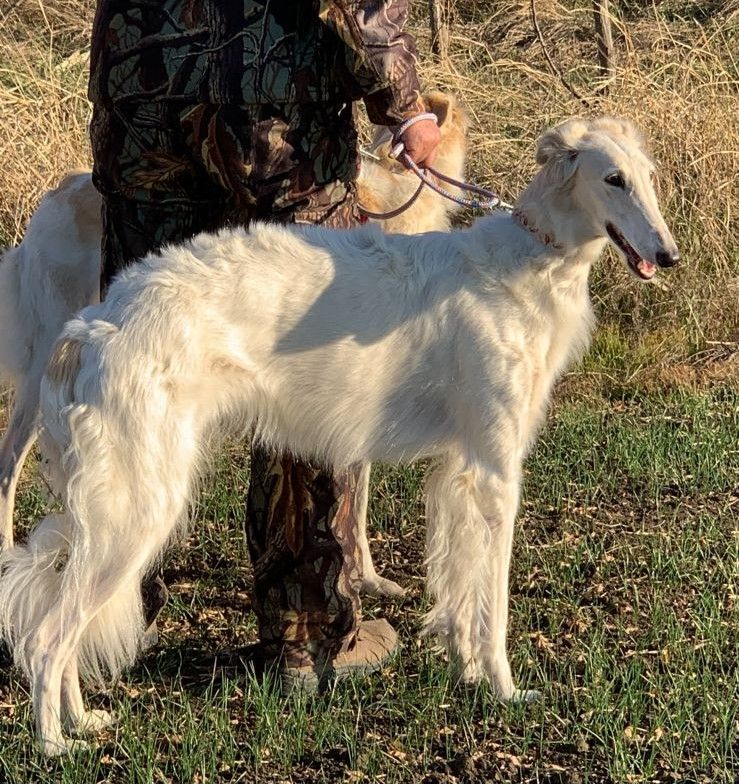borzoi: (4, 100, 697, 760)
